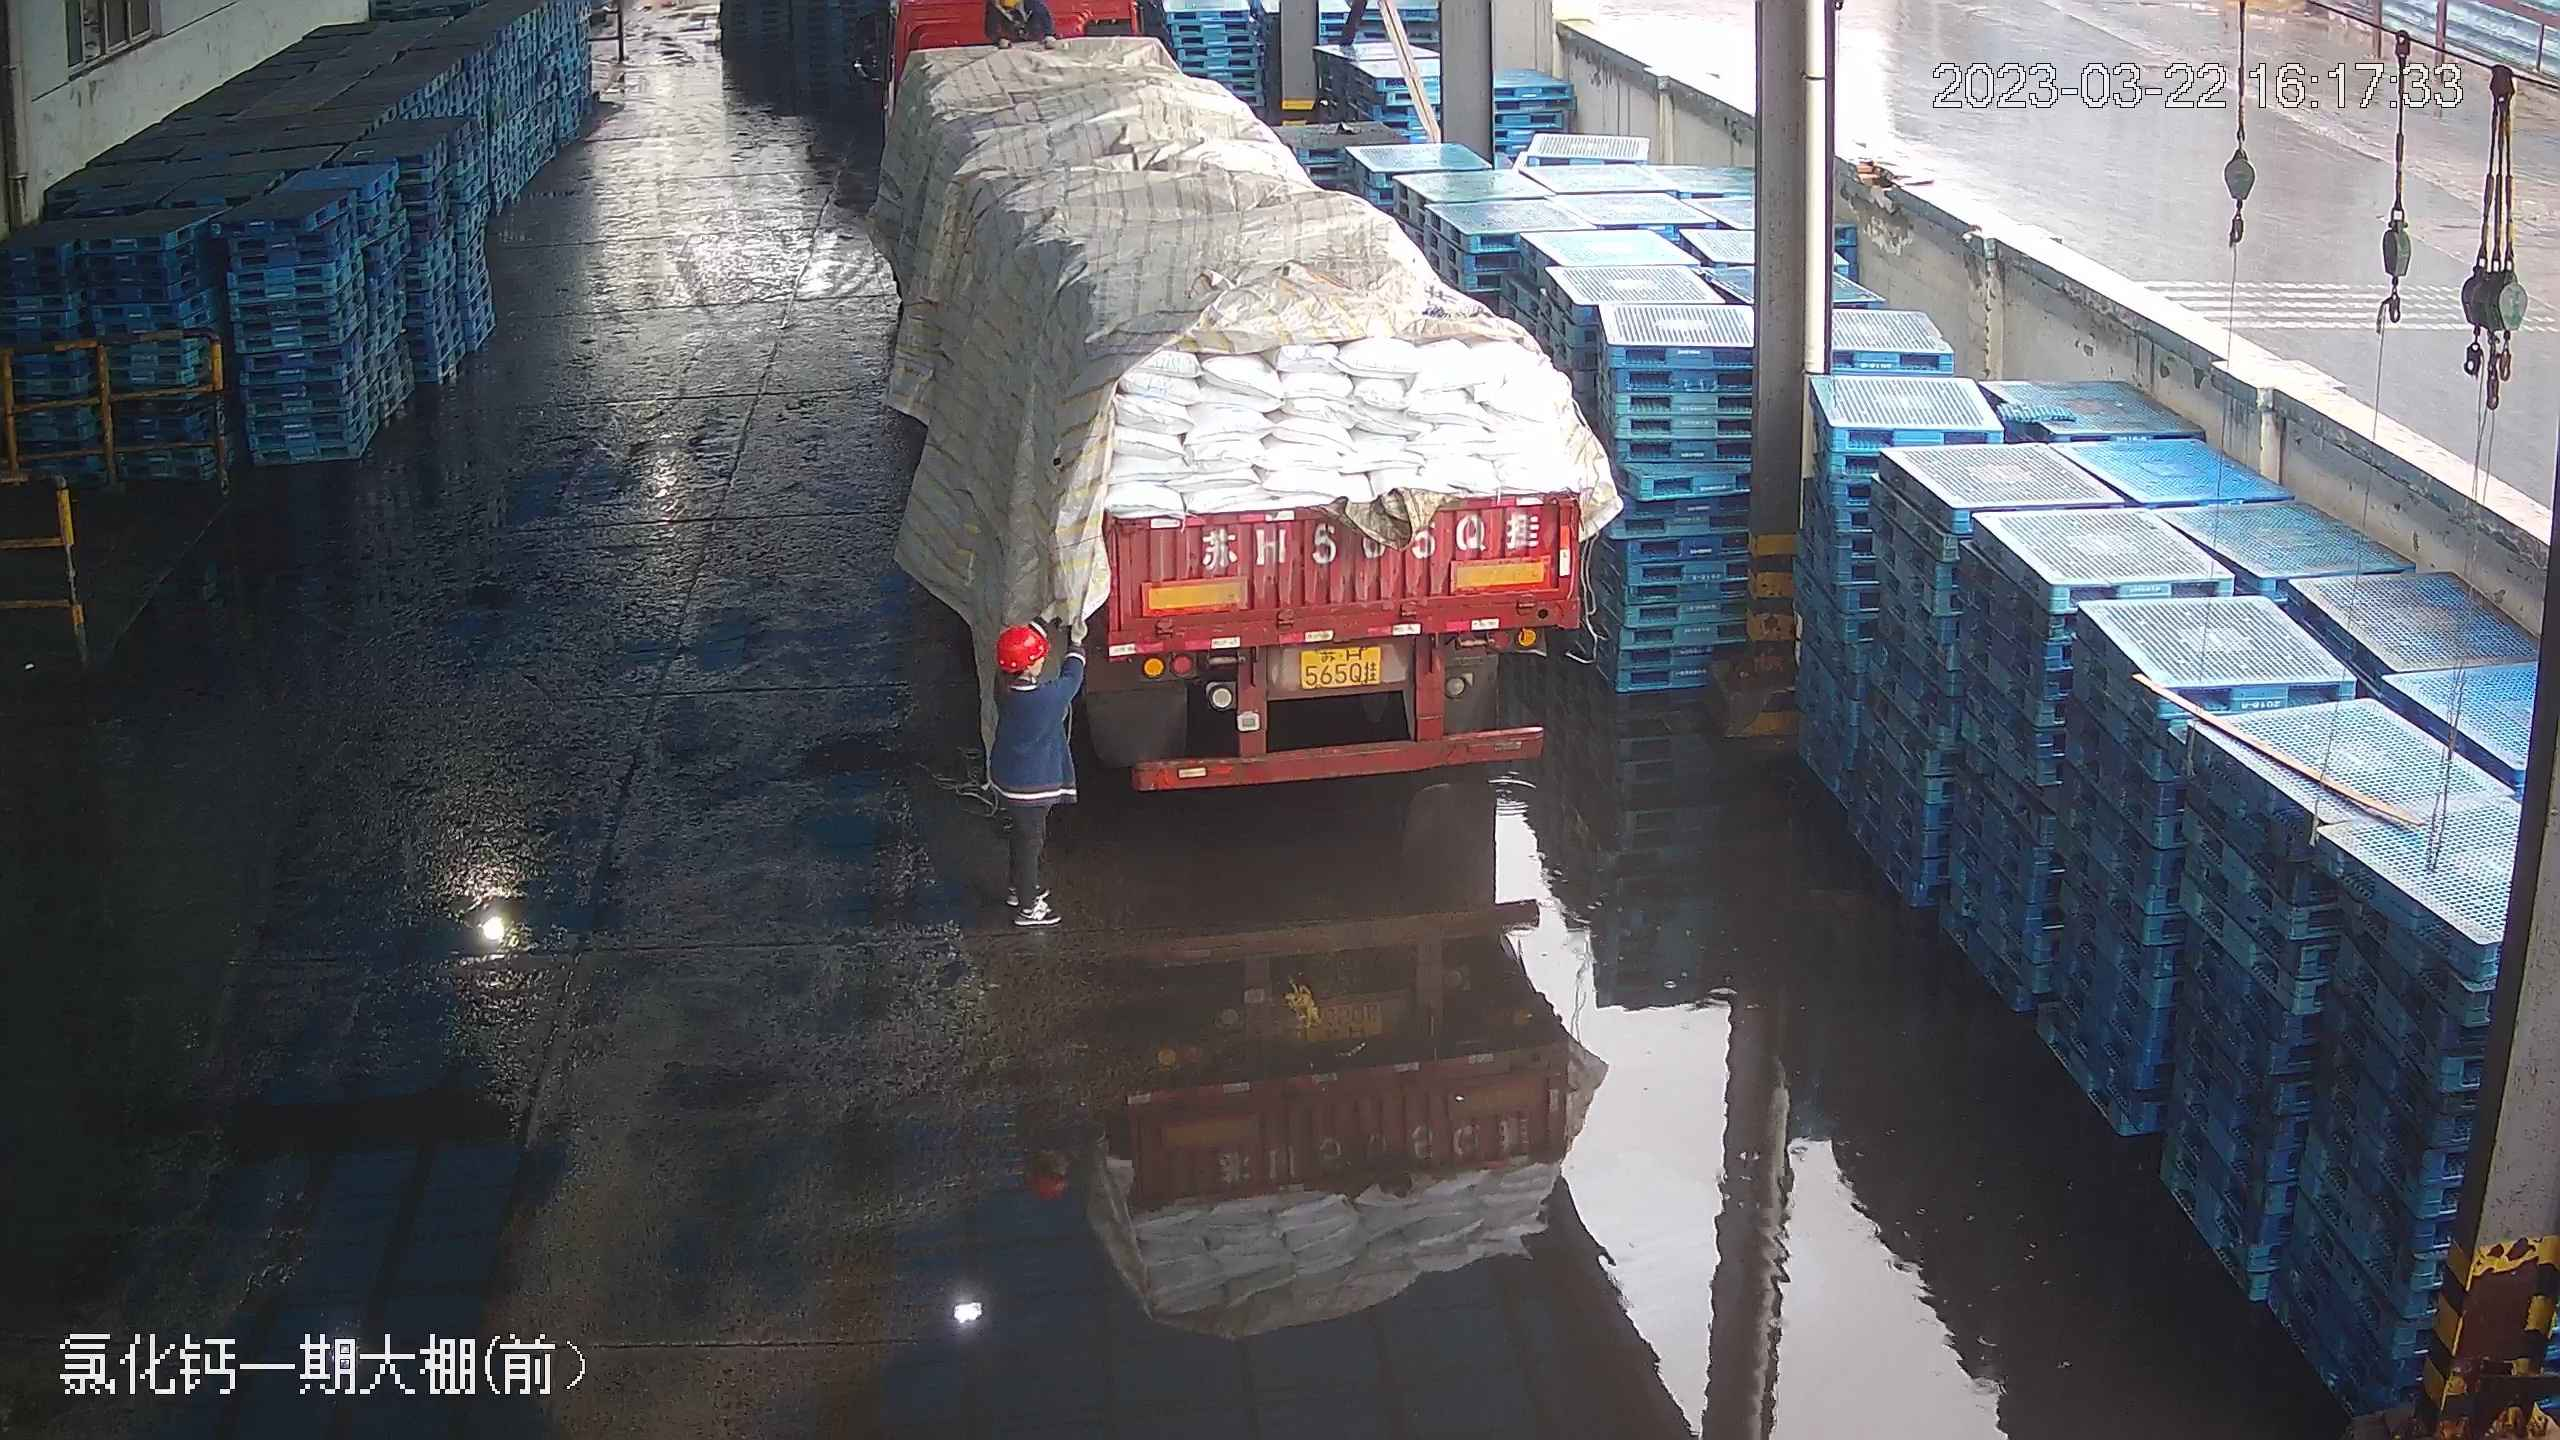belt: (992, 1, 1033, 25)
head: (988, 621, 1069, 725)
helmet: (995, 620, 1051, 666)
people: (981, 620, 1072, 932)
truck: (872, 6, 1628, 803)
